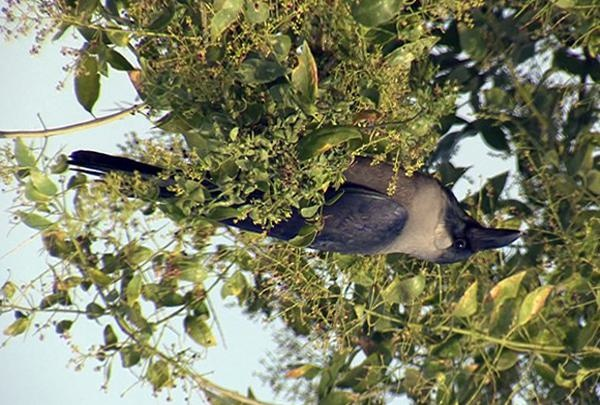crow: (62, 138, 530, 259)
